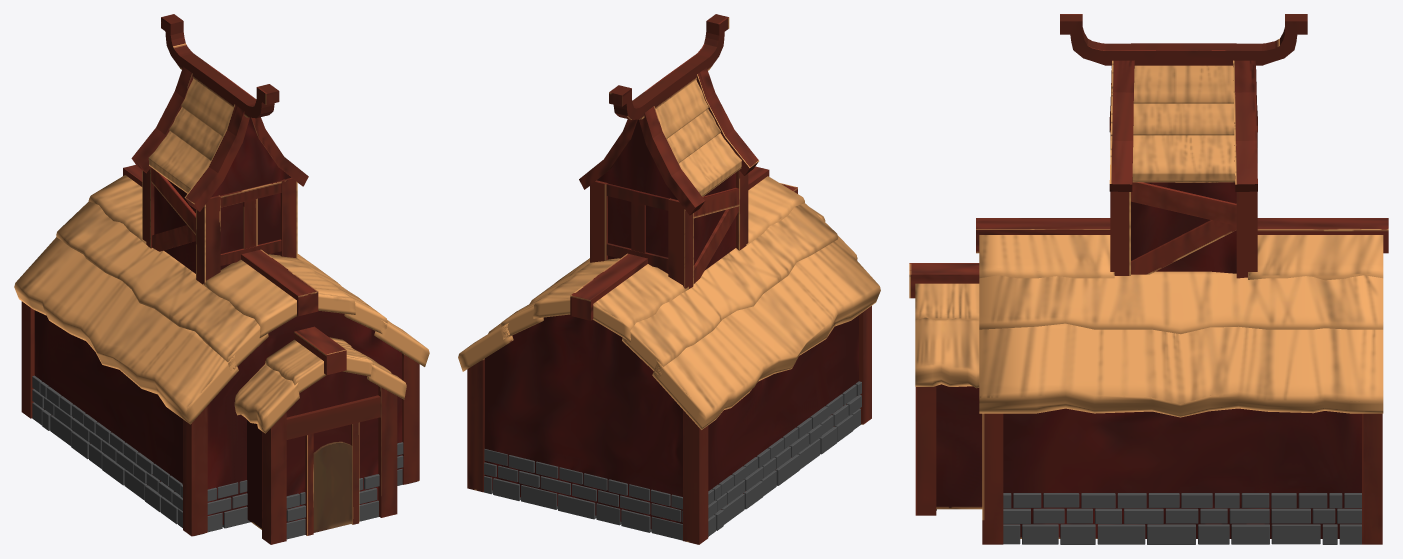
File: AsgardTownHouse3.glb
3 renders of one model, left to right at view 1: azimuth 30°, elevation 25°; view 2: azimuth 150°, elevation 25°; view 3: azimuth 270°, elevation 25°, orthographic. The views are drawn at different scales.
Visible parts, largest first — view 1: AsgardTownHouse3; view 2: AsgardTownHouse3; view 3: AsgardTownHouse3.
Part boxes in pixels (x1=…): AsgardTownHouse3: x1=14, y1=14, x2=429, y2=544; AsgardTownHouse3: x1=458, y1=14, x2=880, y2=544; AsgardTownHouse3: x1=909, y1=14, x2=1388, y2=544.
Bounding box in the file's own units: 7.52 × 11.24 × 10.56.
2 materials, 1 textured.
